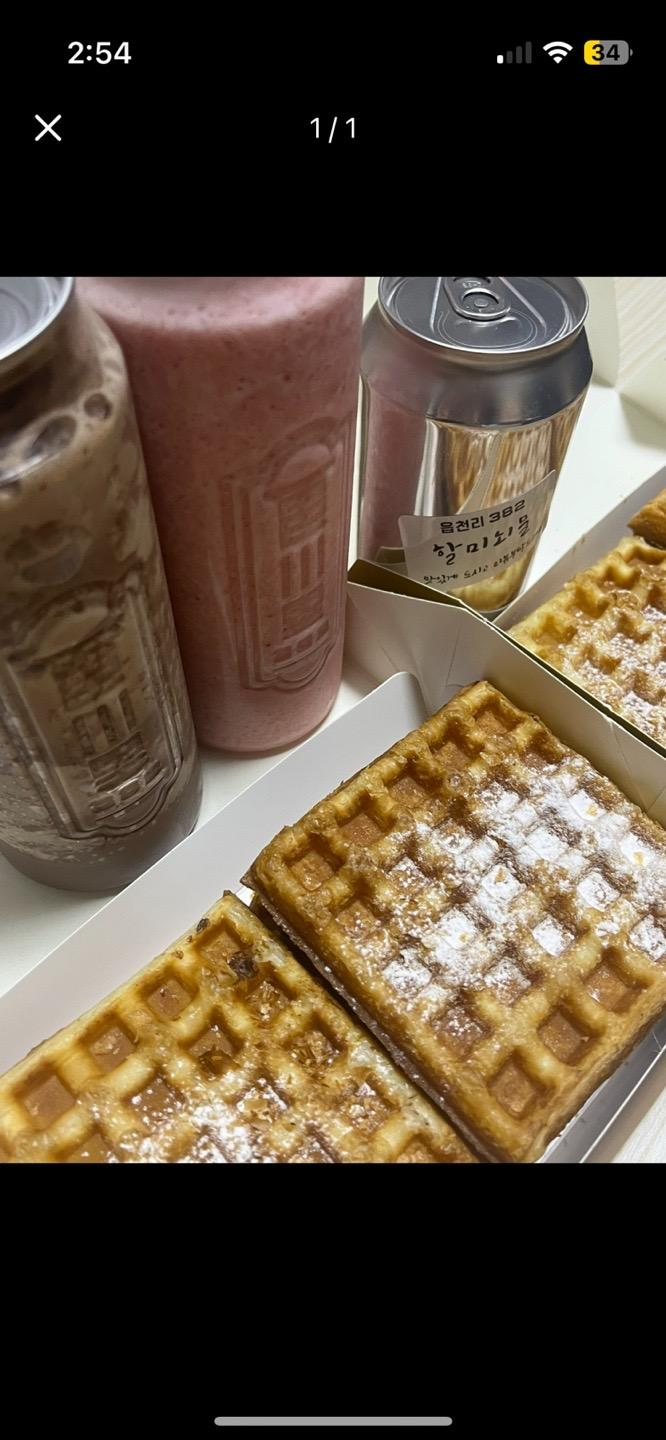Bottle: (79, 276, 363, 752), (0, 277, 200, 888), (359, 276, 592, 617)
Lunch Box: (0, 581, 665, 1162), (495, 383, 665, 757)
